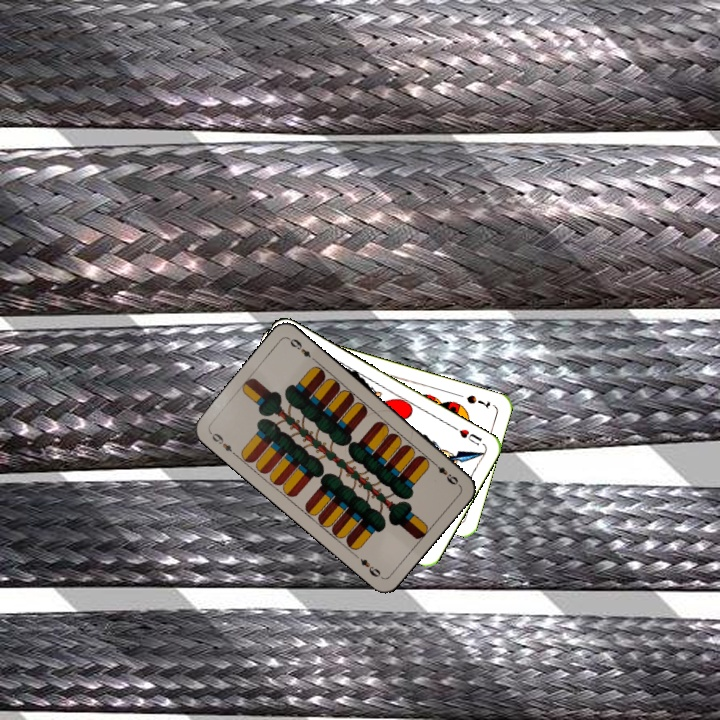E9: (428, 457, 462, 488), (206, 428, 239, 459)
HU: (449, 422, 485, 448)
S7: (462, 391, 493, 411)
